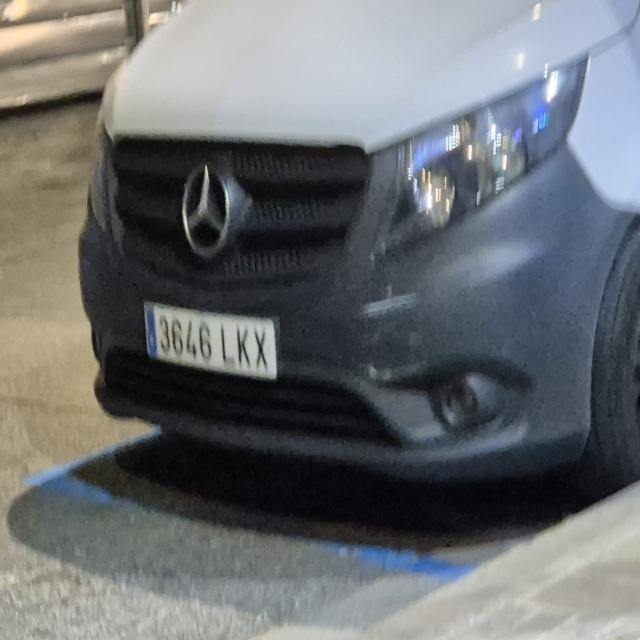license_plate-34Td: (145, 303, 278, 380)
